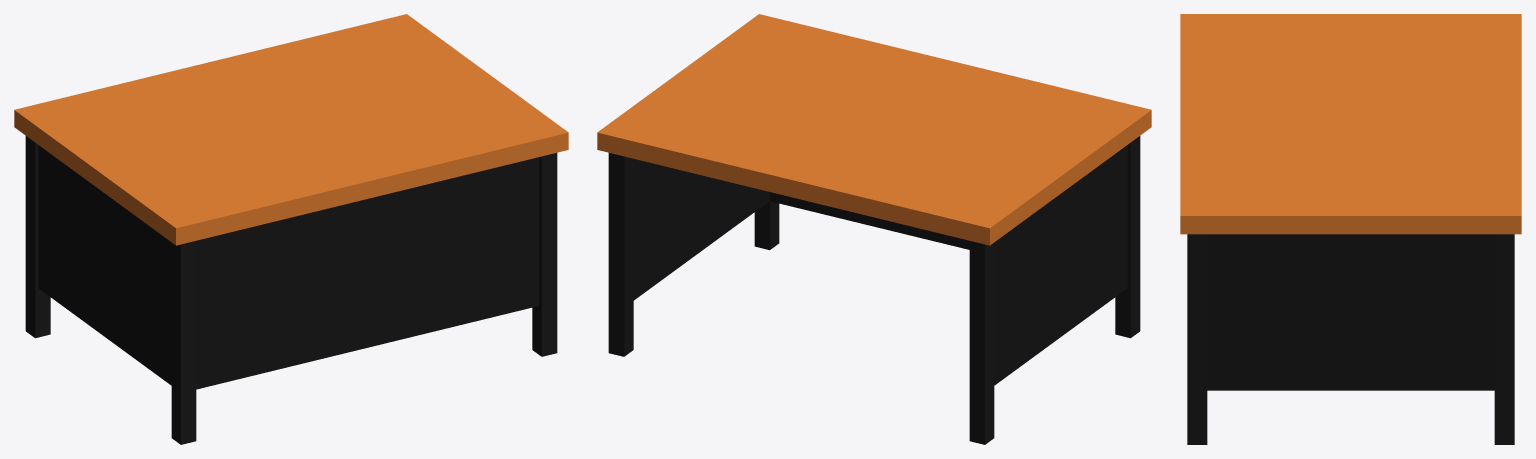
File: Desk.fbx
3 views of the same model, side by side, from view 1: azimuth 30°, elevation 25°; view 2: azimuth 150°, elevation 25°; view 3: azimuth 270°, elevation 25° (orthographic). The views are drawn at different scales.
Parts seen in each view (by area): view 1: Box001; view 2: Box001; view 3: Box001.
Part boxes in pixels (<box>): Box001: <box>14,14,568,444</box>; Box001: <box>597,14,1151,444</box>; Box001: <box>1180,14,1521,444</box>.
Size of the model in its own units: 51.31 by 27.61 by 36.65.
